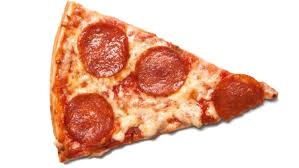pizza: (26, 1, 279, 168)
